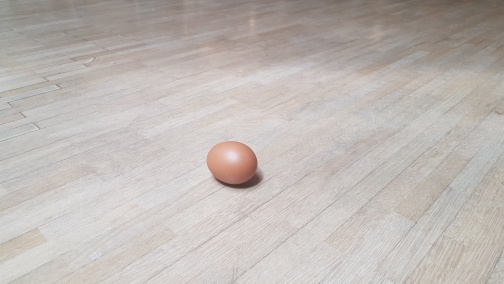egg: (206, 141, 259, 185)
